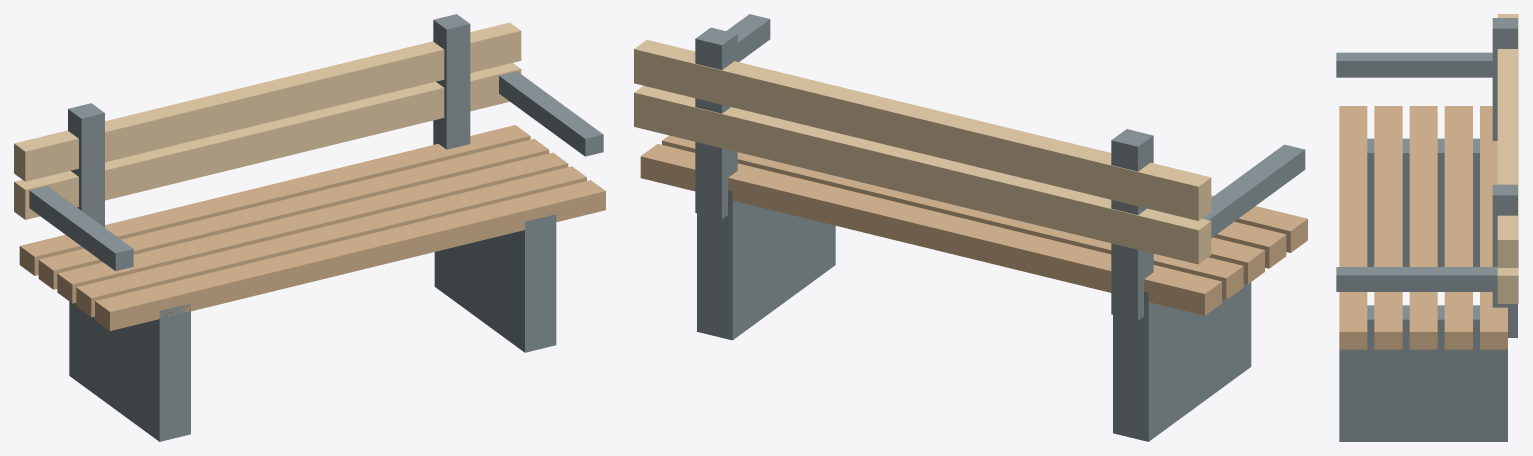
The model's file is bench.glb.
3 views of the same model, side by side, from view 1: azimuth 30°, elevation 25°; view 2: azimuth 150°, elevation 25°; view 3: azimuth 270°, elevation 25° (orthographic). The views are drawn at different scales.
Bounding box in the file's own units: 1.9 × 0.96 × 0.6475.
